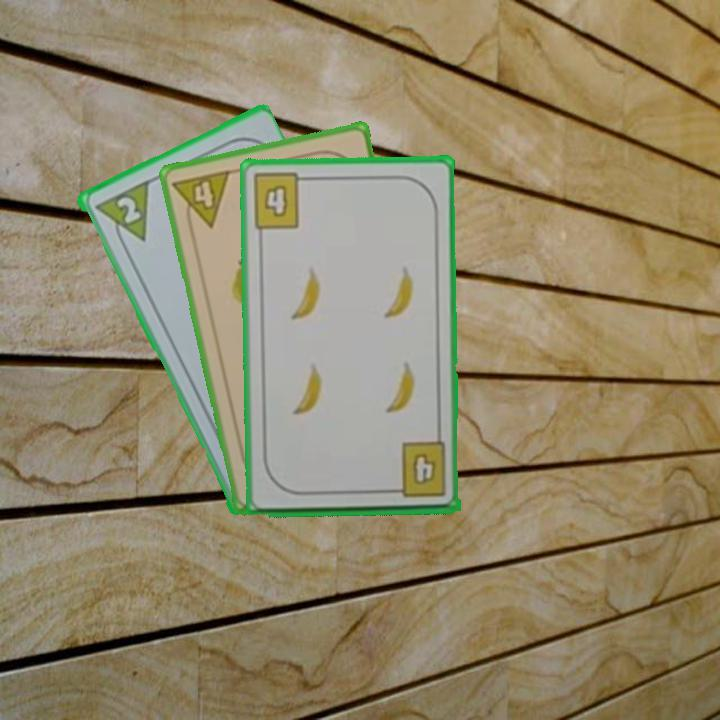2p: (112, 192, 143, 227)
4b: (249, 170, 313, 232), (386, 439, 449, 501)
4p: (169, 166, 233, 235)
